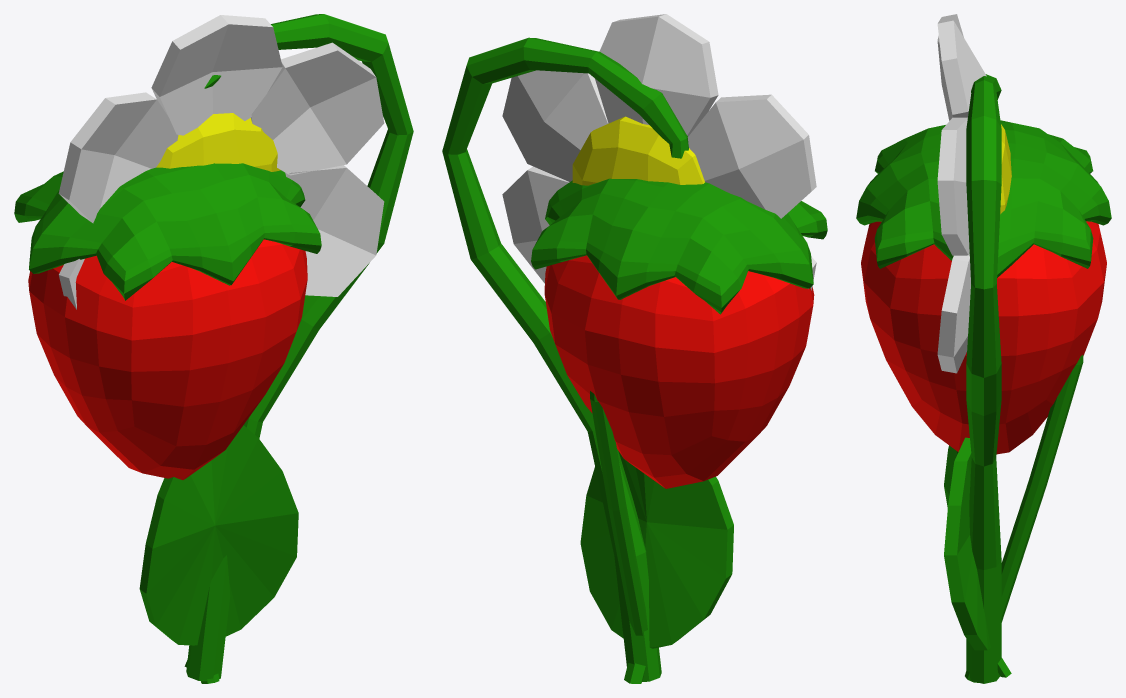
File: Morango.fbx
The picture shows the model from 3 angles, left to right: view 1: azimuth 30°, elevation 25°; view 2: azimuth 150°, elevation 25°; view 3: azimuth 270°, elevation 25°; orthographic projection. The views are drawn at different scales.
Parts seen in each view (by area): view 1: Morango, FlorMorango, Leaf; view 2: Morango, FlorMorango, Leaf; view 3: Morango, FlorMorango, Leaf.
Part boxes in pixels (bbox=[...]): Morango: bbox=[14, 14, 413, 681]; FlorMorango: bbox=[58, 15, 384, 683]; Leaf: bbox=[139, 425, 298, 667]; Morango: bbox=[442, 37, 827, 681]; FlorMorango: bbox=[502, 14, 816, 635]; Leaf: bbox=[580, 451, 733, 683]; Morango: bbox=[856, 74, 1111, 683]; FlorMorango: bbox=[937, 14, 1083, 682]; Leaf: bbox=[944, 437, 1011, 677].
Size of the model in its own units: 147 by 248 by 87.14.
